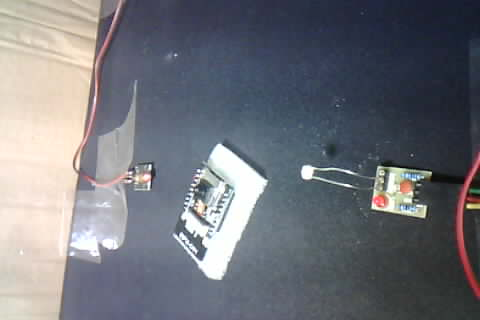esp32: (165, 147, 257, 269)
